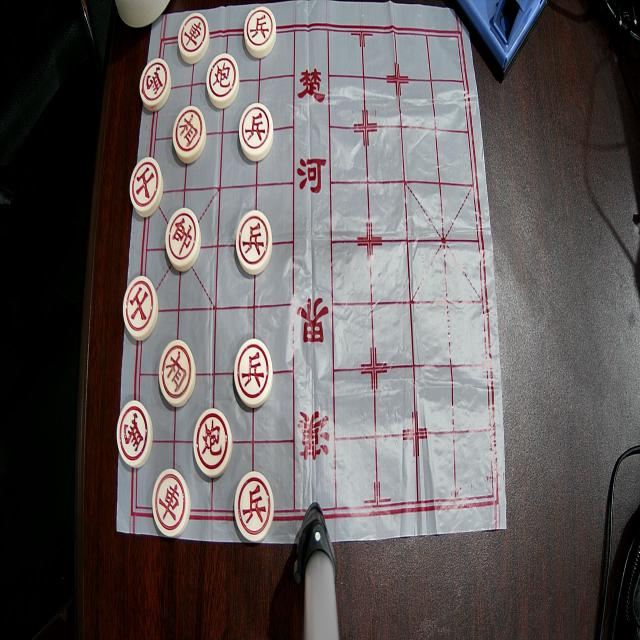red-cannon: (194, 408, 232, 478), (207, 54, 240, 108)
red-chariot: (152, 469, 190, 537), (178, 12, 210, 64)
red-elephant: (159, 340, 196, 407), (173, 105, 206, 163)
red-general: (166, 208, 202, 272)
red-guard: (123, 276, 159, 341), (130, 157, 163, 217)
red-horse: (117, 400, 153, 468), (140, 58, 172, 112)
red-soldier: (234, 471, 274, 543), (235, 339, 273, 408), (236, 210, 272, 275), (239, 103, 273, 161), (244, 6, 276, 58)
